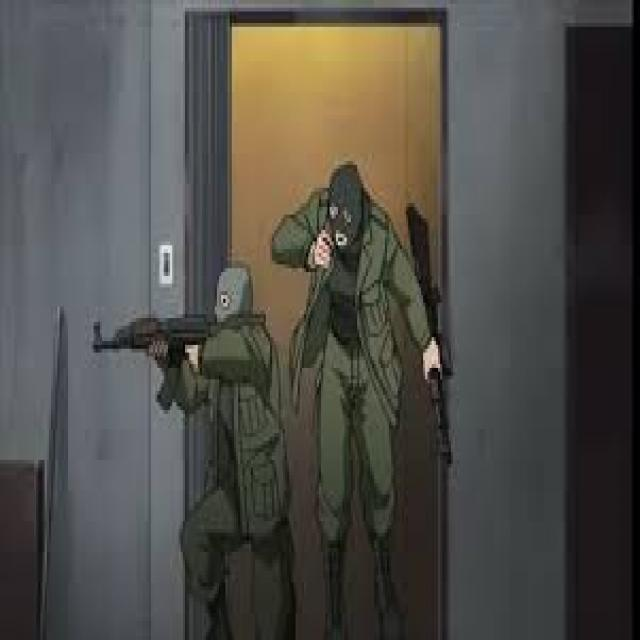weapon: (86, 304, 218, 418), (406, 201, 456, 471)
